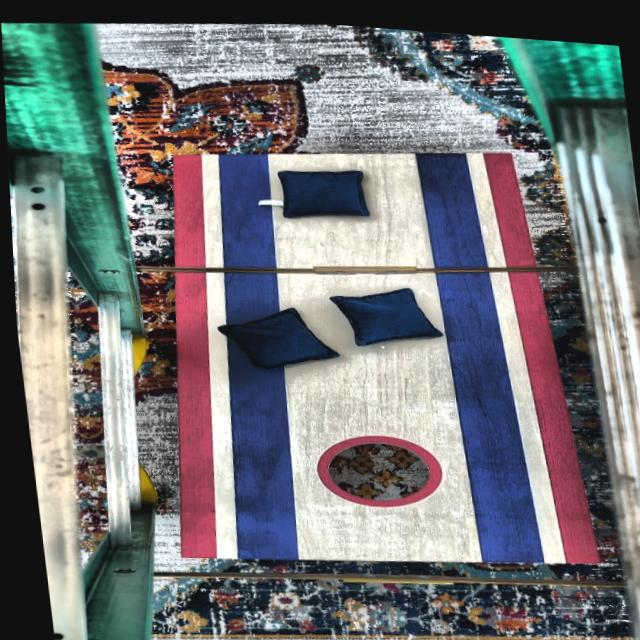blue-bean-bag: (210, 294, 335, 371), (323, 274, 440, 347), (275, 159, 366, 216)
board: (173, 128, 557, 575)
hole: (307, 420, 443, 508)
